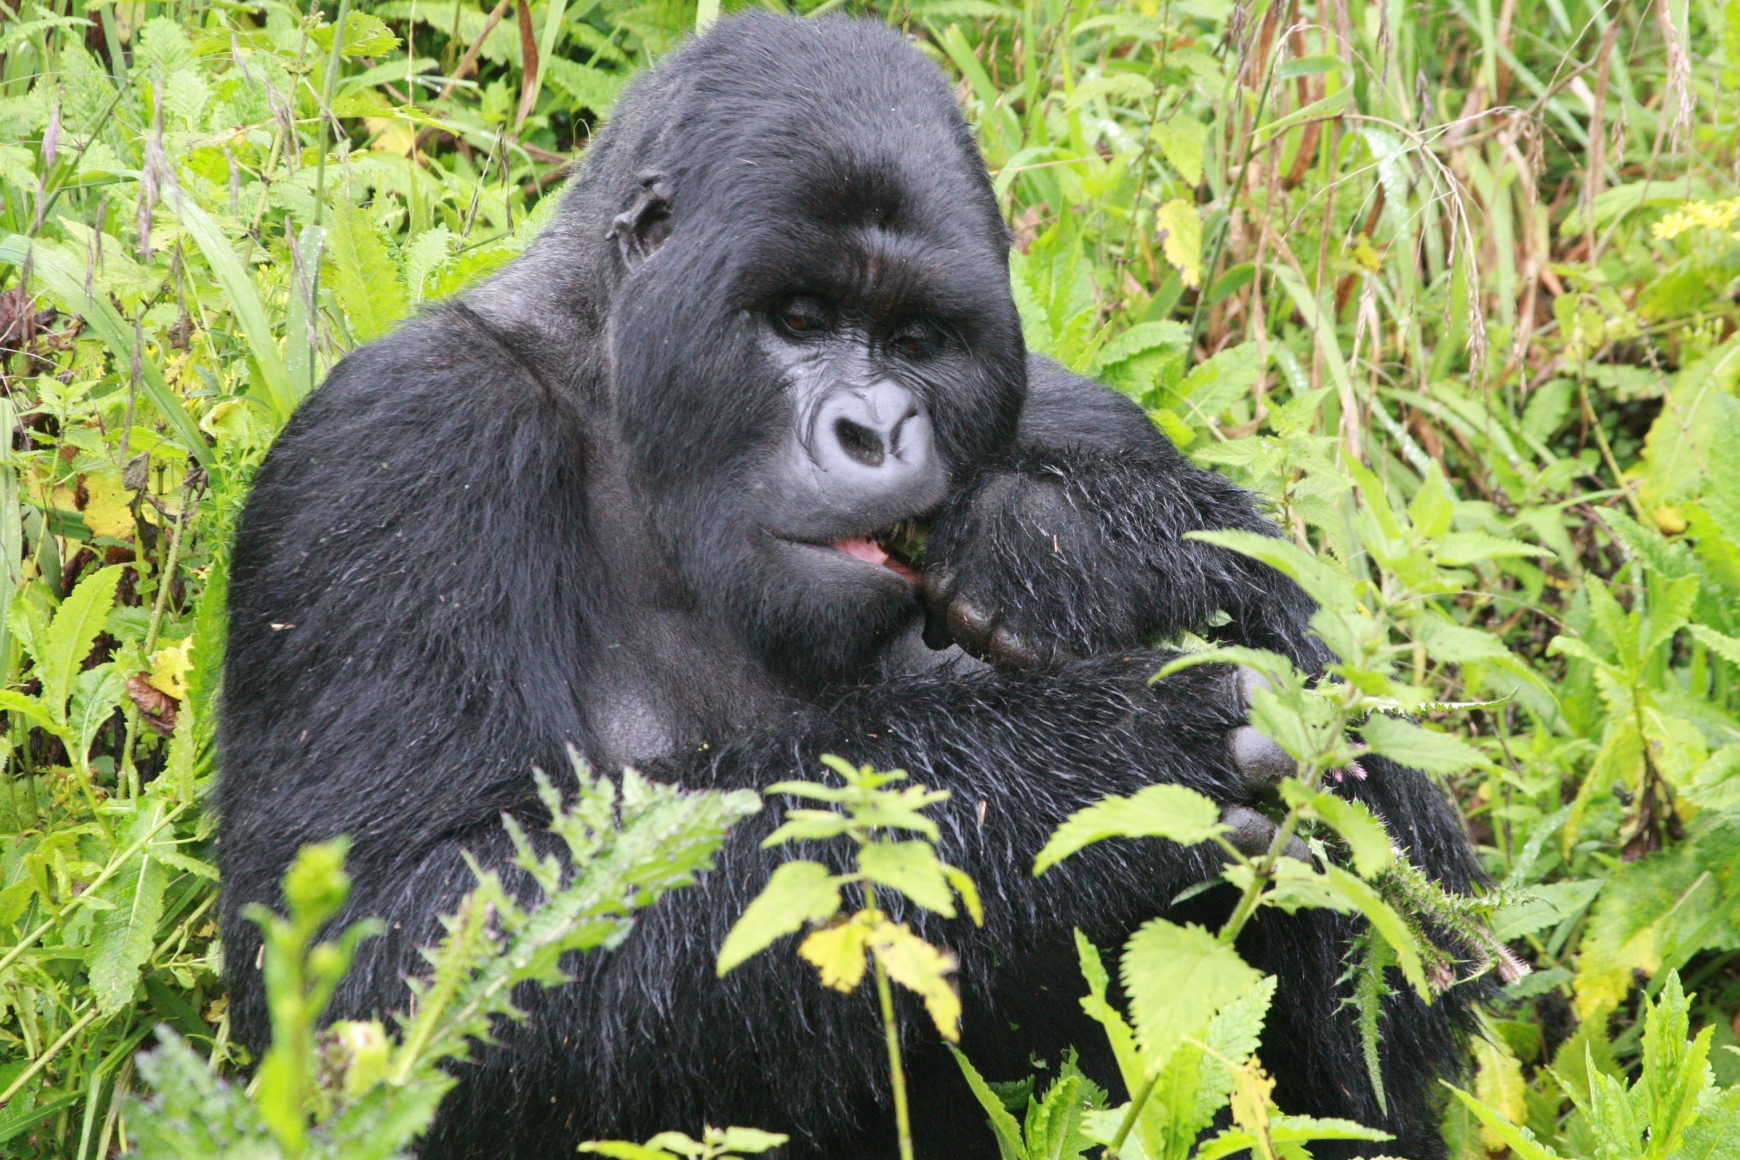Goriila: (250, 43, 1504, 1160)
